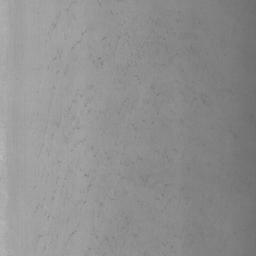Silk spot: (93, 57, 104, 68), (140, 175, 150, 187)
